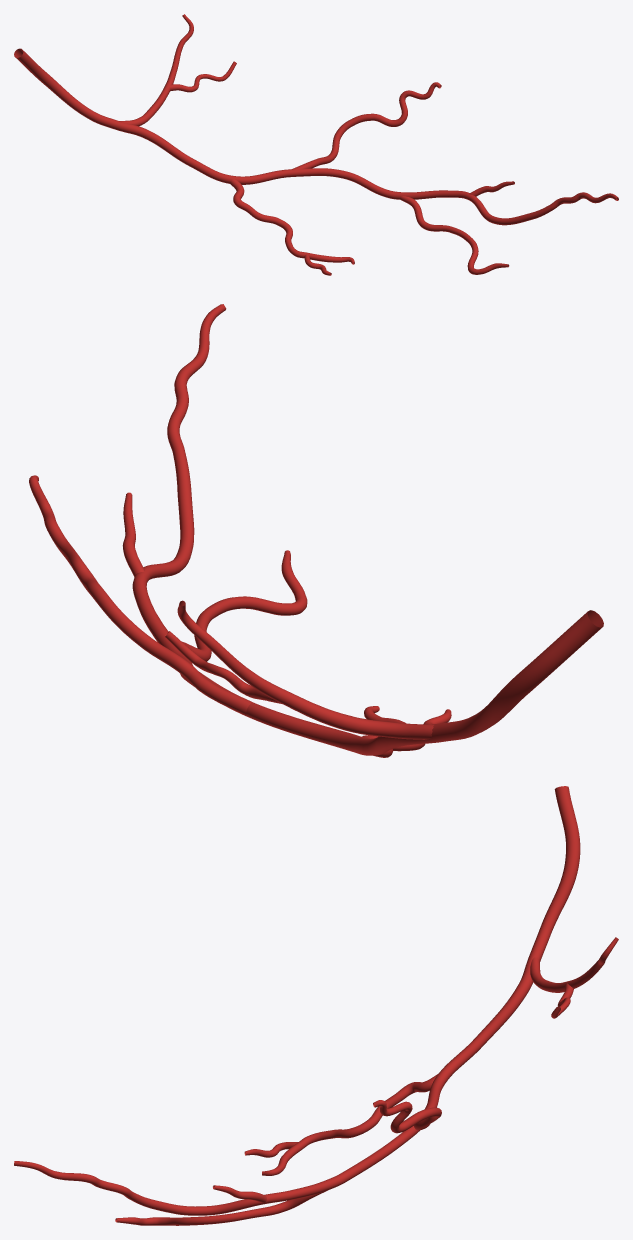
Rendered from circulatorio-inferior-vein-of-left-ventricle-posterior.glb.
3 views of the same model, one above another, from view 1: azimuth 30°, elevation 25°; view 2: azimuth 150°, elevation 25°; view 3: azimuth 270°, elevation 25° (orthographic). The views are drawn at different scales.
Visible parts, largest first — view 1: Inferior vein of left ventricle (//Posterior ''); view 2: Inferior vein of left ventricle (//Posterior ''); view 3: Inferior vein of left ventricle (//Posterior '').
Part boxes in pixels (x1,y1,x2,y2): Inferior vein of left ventricle (//Posterior ''): (14,14,618,275); Inferior vein of left ventricle (//Posterior ''): (29,304,603,757); Inferior vein of left ventricle (//Posterior ''): (14,786,618,1225).
Size of the model in its own units: 0.059 by 0.0265 by 0.0584.
